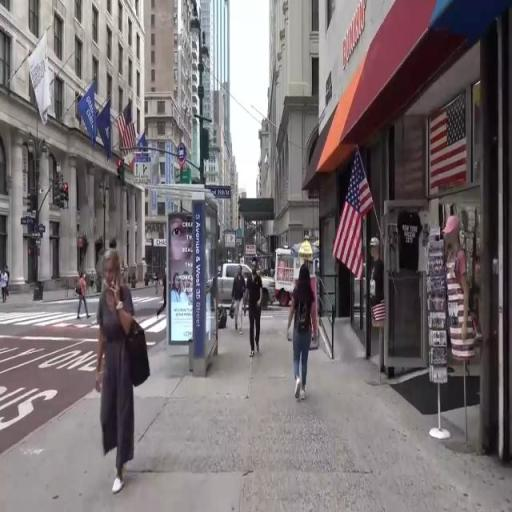person: (93, 244, 151, 483)
